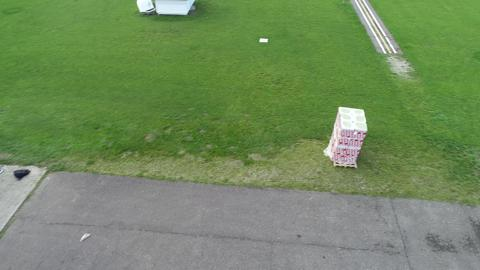RockwoolPallet: (326, 107, 369, 169)
